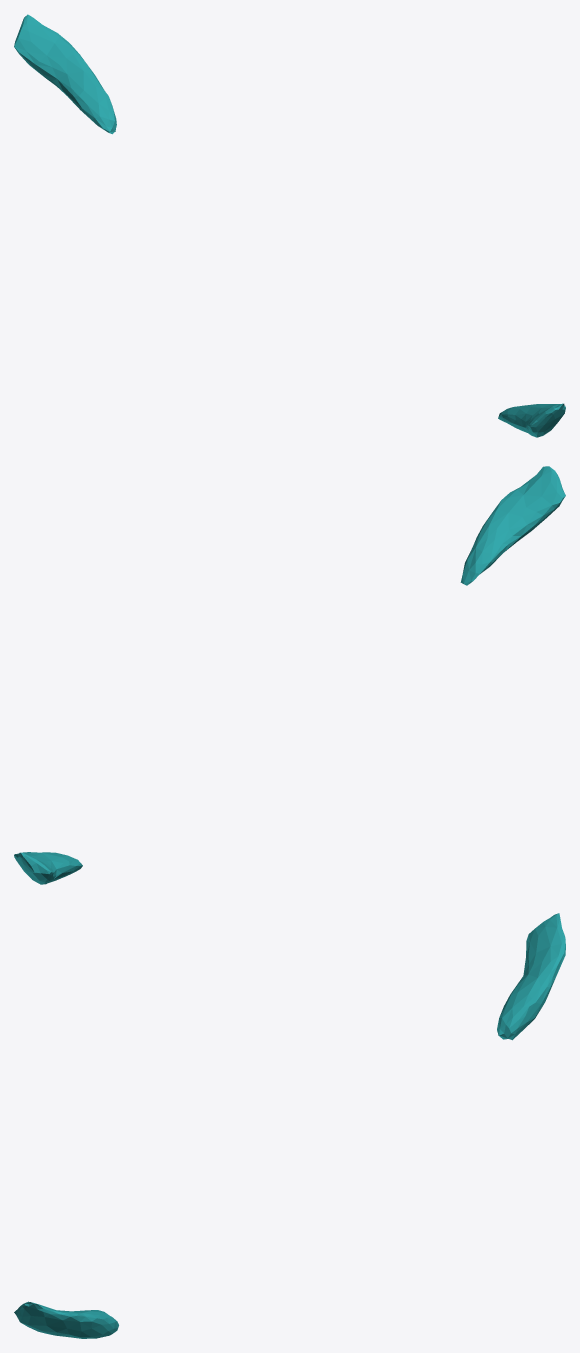
The picture shows the model from 3 angles, top to bottom: view 1: azimuth 30°, elevation 25°; view 2: azimuth 150°, elevation 25°; view 3: azimuth 330°, elevation 25°; orthographic projection.
Parts seen in each view (by area): view 1: 377.obj; view 2: 377.obj; view 3: 377.obj.
Part boxes in pixels (x1,y1,x2,y2): 377.obj: [14, 14, 565, 437]; 377.obj: [14, 466, 565, 884]; 377.obj: [14, 913, 565, 1338].
Size of the model in its own units: 394 by 536 by 7057.
